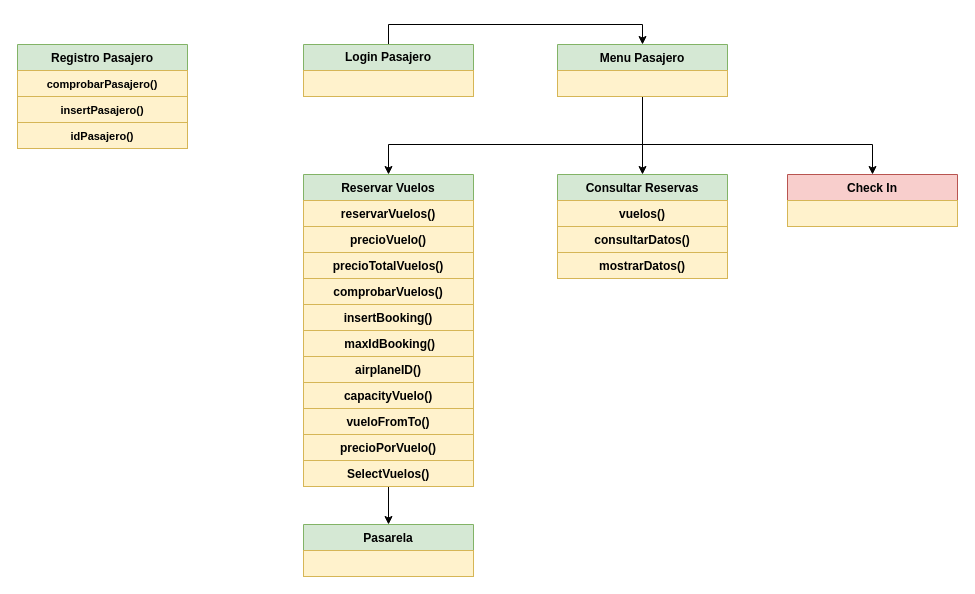
The diagram is 975 pixels wide and 594 high, and some of its shapes have lost their labels. The shapes that lost their labels are listed below. From the top down, each one's centre as x and y in pixels, then its label:
At (388,83): "login()".
At (872,213): "asientos()".
